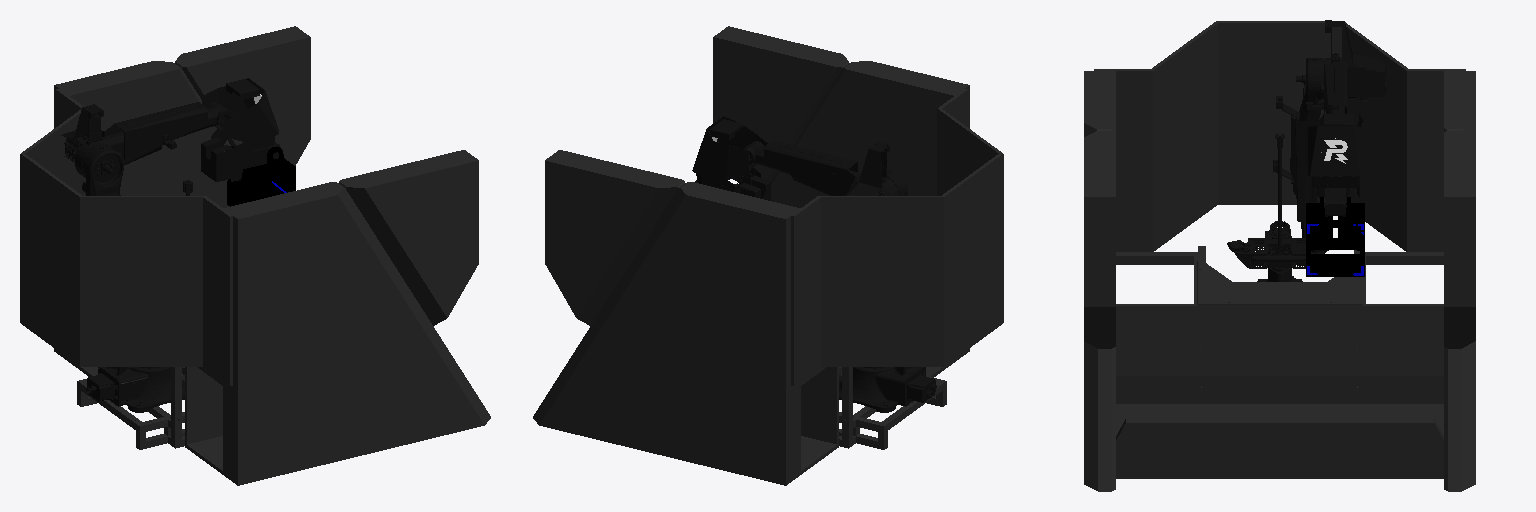
URDF robot description (Exchange_Station):
<?xml version="1.0" encoding="utf-8"?>
<!-- This URDF was automatically created by SolidWorks to URDF Exporter! Originally created by [author] ([email redacted]) 
     Commit Version: 1.6.0-4-g7f85cfe  Build Version: 1.6.7995.38578
     For more information, please see http://wiki.ros.org/sw_urdf_exporter -->
<robot
  name="Exchange_Station">
  <link
    name="base_link">
    <inertial>
      <origin
        xyz="-0.17399 -0.11056 0.083009"
        rpy="0 0 0" />
      <mass
        value="9.4012E-06" />
      <inertia
        ixx="1.0973E-11"
        ixy="-2.7657E-14"
        ixz="-1.4192E-12"
        iyy="1.0955E-09"
        iyz="5.6961E-14"
        izz="1.0845E-09" />
    </inertial>
    <visual>
      <origin
        xyz="0 0 0"
        rpy="0 0 0" />
      <geometry>
        <mesh
          filename="package://Exchange_Station/meshes/base_link.STL" />
      </geometry>
      <material
        name="black">
        <color
          rgba="0.1 0.1 0.1 1" />
      </material>
    </visual>
    <collision>
      <origin
        xyz="0 0 0"
        rpy="0 0 0" />
      <geometry>
        <mesh
          filename="package://Exchange_Station/meshes/base_link.STL" />
      </geometry>
    </collision>
  </link>
  <link
    name="L1">
    <inertial>
      <origin
        xyz="0.092915 0.12038 0.36763"
        rpy="0 0 0" />
      <mass
        value="0.5963" />
      <inertia
        ixx="0.0060483"
        ixy="0.0010503"
        ixz="0.0018288"
        iyy="0.011589"
        iyz="0.00047736"
        izz="0.011888" />
    </inertial>
    <visual>
      <origin
        xyz="0 0 0"
        rpy="0 0 0" />
      <geometry>
        <mesh
          filename="package://Exchange_Station/meshes/L1.STL" />
      </geometry>
      <material
        name="black">
        <color
          rgba="0.1 0.1 0.1 1" />
      </material>
    </visual>
    <collision>
      <origin
        xyz="0 0 0"
        rpy="0 0 0" />
      <geometry>
        <mesh
          filename="package://Exchange_Station/meshes/L1.STL" />
      </geometry>
    </collision>
  </link>
  <joint
    name="J1"
    type="revolute">
    <origin
      xyz="0 0 0.2020000000001"
      rpy="0 0 3.14" />
     <limit lower="-0.5" upper="0.5" effort="1000" velocity="100.0"/>
    <parent
      link="base_link" />
    <child
      link="L1" />
    <axis
      xyz="0 0 -1" />
  </joint>
  <link
    name="L2">
    <inertial>
      <origin
        xyz="0.3678 0.053005 -0.022493"
        rpy="0 0 0" />
      <mass
        value="0.37826" />
      <inertia
        ixx="0.0020262"
        ixy="0.00060414"
        ixz="-3.1207E-05"
        iyy="0.0061416"
        iyz="-1.0729E-05"
        izz="0.0061231" />
    </inertial>
    <visual>
      <origin
        xyz="0 0 0"
        rpy="0 0 0" />
      <geometry>
        <mesh
          filename="package://Exchange_Station/meshes/L2.STL" />
      </geometry>
      <material
        name="black">
        <color
          rgba="0.1 0.1 0.1 1" />
      </material>
    </visual>
    <collision>
      <origin
        xyz="0 0 0"
        rpy="0 0 0" />
      <geometry>
        <mesh
          filename="package://Exchange_Station/meshes/L2.STL" />
      </geometry>
    </collision>
  </link>
  <joint
    name="J2"
    type="revolute">
    <origin
      xyz="0.180000000000083 -0.13599999999999 0.300599999999966"
      rpy="1.5707963267949 -1.5707963267949 0" />
     <limit lower="-1.57" upper="0.2" effort="1000" velocity="100.0"/>
    <parent
      link="L1" />
    <child
      link="L2" />
    <axis
      xyz="0 0 -1" />
  </joint>
  <link
    name="L3">
    <inertial>
      <origin
        xyz="0.2861 0.11399 -0.13883"
        rpy="0 0 0" />
      <mass
        value="0.74928" />
      <inertia
        ixx="0.0046263"
        ixy="-0.0010526"
        ixz="-0.00023028"
        iyy="0.013619"
        iyz="-0.00090529"
        izz="0.014513" />
    </inertial>
    <visual>
      <origin
        xyz="0 0 0"
        rpy="0 0 0" />
      <geometry>
        <mesh
          filename="package://Exchange_Station/meshes/L3.STL" />
      </geometry>
      <material
        name="black">
        <color
          rgba="0.1 0.1 0.1 1" />
      </material>
    </visual>
    <collision>
      <origin
        xyz="0 0 0"
        rpy="0 0 0" />
      <geometry>
        <mesh
          filename="package://Exchange_Station/meshes/L3.STL" />
      </geometry>
    </collision>
  </link>
  <joint
    name="J3"
    type="continuous">
    <origin
      xyz="0.760000000000334 0 0.0229999999999997"
      rpy="3.14159265358979 0 1.5707963267949" />
    <parent
      link="L2" />
    <child
      link="L3" />
    <axis
      xyz="0 0 -1" />
  </joint>
  <link
    name="L4">
    <inertial>
      <origin
        xyz="0.1202 0.0056517 -0.1197"
        rpy="0 0 0" />
      <mass
        value="1.1036" />
      <inertia
        ixx="0.015284"
        ixy="-0.00011829"
        ixz="-0.000791"
        iyy="0.0093"
        iyz="0.00022878"
        izz="0.011409" />
    </inertial>
    <visual>
      <origin
        xyz="0 0 0"
        rpy="0 0 0" />
      <geometry>
        <mesh
          filename="package://Exchange_Station/meshes/L4.STL" />
      </geometry>
      <material
        name="black">
        <color
          rgba="0.1 0.1 0.1 1" />
      </material>
    </visual>
    <collision>
      <origin
        xyz="0 0 0"
        rpy="0 0 0" />
      <geometry>
        <mesh
          filename="package://Exchange_Station/meshes/L4.STL" />
      </geometry>
    </collision>
  </link>
  <joint
    name="J4"
    type="continuous">
    <origin
      xyz="0.75560833937857 0.0815845418051784 -0.112999999999991"
      rpy="1.5707963267949 0 -1.57079632679498" />
    <!-- <limit lower="-2" upper="2" effort="1000" velocity="100.0"/> -->
    <parent
      link="L3" />
    <child
      link="L4" />
    <axis
      xyz="0 1 0" />
  </joint>
  <link
    name="L_R">
    <inertial>
      <origin
        xyz="0.0042943 4.5581E-05 -0.25221"
        rpy="0 0 0" />
      <mass
        value="0.11162" />
      <inertia
        ixx="0.00022253"
        ixy="-3.4643E-08"
        ixz="5.2044E-05"
        iyy="0.00020864"
        iyz="9.2825E-09"
        izz="0.00040282" />
    </inertial>
    <visual>
      <origin
        xyz="0 0 0"
        rpy="0 0 0" />
      <geometry>
        <mesh
          filename="package://Exchange_Station/meshes/L_R.STL" />
      </geometry>
      <material
        name="white">
        <color
          rgba="1 1 1 1" />
      </material>
    </visual>
    <collision>
      <origin
        xyz="0 0 0"
        rpy="0 0 0" />
      <geometry>
        <mesh
          filename="package://Exchange_Station/meshes/L_R.STL" />
      </geometry>
    </collision>
  </link>
  <joint
    name="J_R"
    type="fixed">
    <origin
      xyz="0 0 0"
      rpy="0 0 0" />
    <parent
      link="L4" />
    <child
      link="L_R" />
    <axis
      xyz="0 0 0" />
  </joint>
  <link
    name="L5">
    <inertial>
      <origin
        xyz="0.10338 0.0024643 -0.010197"
        rpy="0 0 0" />
      <mass
        value="0.73428" />
      <inertia
        ixx="0.0010042"
        ixy="4.4117E-05"
        ixz="-6.5212E-06"
        iyy="0.0027858"
        iyz="1.5453E-08"
        izz="0.0031931" />
    </inertial>
    <visual>
      <origin
        xyz="0 0 0"
        rpy="0 0 0" />
      <geometry>
        <mesh
          filename="package://Exchange_Station/meshes/L5.STL" />
      </geometry>
      <material
        name="black">
        <color
          rgba="0.1 0.1 0.1 1" />
      </material>
    </visual>
    <collision>
      <origin
        xyz="0 0 0"
        rpy="0 0 0" />
      <geometry>
        <mesh
          filename="package://Exchange_Station/meshes/L5.STL" />
      </geometry>
    </collision>
  </link>
  <joint
    name="J5"
    type="continuous">
    <origin
      xyz="0.274200000000296 0 -0.0855000000000423"
      rpy="0 1.57079620573729 1.57079569431565" />
    <!-- <limit lower="-1" upper="1" effort="1000" velocity="100.0"/> -->
    <parent
      link="L4" />
    <child
      link="L5" />
    <axis
      xyz="1 0 0" />
  </joint>
  <link
    name="L6">
    <inertial>
      <origin
        xyz="0.19365 -0.050275 -0.011889"
        rpy="0 0 0" />
      <mass
        value="1.54" />
      <inertia
        ixx="0.010155"
        ixy="0.00028938"
        ixz="-9.6121E-06"
        iyy="0.011197"
        iyz="8.4277E-07"
        izz="0.011226" />
    </inertial>
    <visual>
      <origin
        xyz="0 0 0"
        rpy="0 0 0" />
      <geometry>
        <mesh
          filename="package://Exchange_Station/meshes/L6.STL" />
      </geometry>
      <material
        name="black">
        <color
          rgba="0 0 0 1" />
      </material>
    </visual>
    <collision>
      <origin
        xyz="0 0 0"
        rpy="0 0 0" />
      <geometry>
        <mesh
          filename="package://Exchange_Station/meshes/L6.STL" />
      </geometry>
    </collision>
  </link>
  <joint
    name="J6"
    type="revolute">
    <origin
      xyz="0.209499999999998 0 0"
      rpy="0 0 -1.5707963267949" />
    <limit lower="-1.57" upper="0.5" effort="1000" velocity="100.0"/>
    <parent
      link="L5" />
    <child
      link="L6" />
    <axis
      xyz="0 0 -1" />
  </joint>
  <link
    name="L_lighit">
    <inertial>
      <origin
        xyz="0.19945 0.021135 0.0019544"
        rpy="0 0 0" />
      <mass
        value="0.082498" />
      <inertia
        ixx="4.5664E-05"
        ixy="1.9456E-09"
        ixz="-2.0864E-07"
        iyy="0.00016304"
        iyz="1.9456E-09"
        izz="0.00018554" />
    </inertial>
    <visual>
      <origin
        xyz="0 0 0"
        rpy="0 0 0" />
      <geometry>
        <mesh
          filename="package://Exchange_Station/meshes/L_lighit.STL" />
      </geometry>
      <material
        name="blue">
        <color
          rgba="0 0 1 1" />
      </material>
    </visual>
    <collision>
      <origin
        xyz="0 0 0"
        rpy="0 0 0" />
      <geometry>
        <mesh
          filename="package://Exchange_Station/meshes/L_lighit.STL" />
      </geometry>
    </collision>
  </link>
  <joint
    name="J_light"
    type="fixed">
    <origin
      xyz="0 0 0"
      rpy="0 0 0" />
    <parent
      link="L6" />
    <child
      link="L_lighit" />
    <axis
      xyz="0 0 0" />
  </joint>
  <link
    name="L_RFID">
    <inertial>
      <origin
        xyz="0.31939 -0.019757 -9.413E-07"
        rpy="0 0 0" />
      <mass
        value="0.021955" />
      <inertia
        ixx="3.3439E-05"
        ixy="-3.5924E-10"
        ixz="-3.6333E-11"
        iyy="1.914E-05"
        iyz="1.544E-09"
        izz="1.4478E-05" />
    </inertial>
    <visual>
      <origin
        xyz="0 0 0"
        rpy="0 0 0" />
      <geometry>
        <mesh
          filename="package://Exchange_Station/meshes/L_RFID.STL" />
      </geometry>
      <material
        name="black">
        <color
          rgba="0 0 0 1" />
      </material>
    </visual>
    <collision>
      <origin
        xyz="0 0 0"
        rpy="0 0 0" />
      <geometry>
        <mesh
          filename="package://Exchange_Station/meshes/L_RFID.STL" />
      </geometry>
    </collision>
  </link>
  <joint
    name="J_RFID"
    type="fixed">
    <origin
      xyz="0 0 0"
      rpy="0 0 0" />
    <parent
      link="L6" />
    <child
      link="L_RFID" />
    <axis
      xyz="0 0 0" />
  </joint>
  <link
    name="L_base">
    <inertial>
      <origin
        xyz="0.63097 -5.1948E-05 0.48823"
        rpy="0 0 0" />
      <mass
        value="900.72" />
      <inertia
        ixx="209.32"
        ixy="0.00027467"
        ixz="-14.024"
        iyy="289.49"
        iyz="-0.00031051"
        izz="166.42" />
    </inertial>
    <visual>
      <origin
        xyz="0 0 0"
        rpy="0 0 0" />
      <geometry>
        <mesh
          filename="package://Exchange_Station/meshes/L_base.STL" />
      </geometry>
      <material
        name="">
        <color
          rgba="0.2 0.2 0.2 1" />
      </material>
    </visual>
    <collision>
      <origin
        xyz="0 0 0"
        rpy="0 0 0" />
      <geometry>
        <mesh
          filename="package://Exchange_Station/meshes/L_base.STL" />
      </geometry>
    </collision>
  </link>
  <joint
    name="J_base"
    type="fixed">
    <origin
      xyz="0 0 0"
      rpy="0 0 0" />
    <parent
      link="base_link" />
    <child
      link="L_base" />
    <axis
      xyz="0 0 0" />
  </joint>
</robot>

--- Render facts (derived) ---
Views: 3 orthographic renders of the robot side by side, from view 1: azimuth 30°, elevation 25°; view 2: azimuth 150°, elevation 25°; view 3: azimuth 270°, elevation 25°.
Robot: Exchange_Station — 11 links, 10 joints (3 revolute, 3 continuous, 4 fixed); root link base_link; default pose: all joints at 0.
Links seen in each view (by area): view 1: L_base, L3, L4, base_link, L6, L2; view 2: L_base, L3, L4, base_link; view 3: L_base, L6, L4, L2, L3, L1, L5.
Link boxes in pixels (x1=…): L_base: x1=20, y1=26, x2=490, y2=485; L3: x1=61, y1=102, x2=232, y2=177; L4: x1=201, y1=78, x2=278, y2=181; base_link: x1=86, y1=367, x2=184, y2=412; L6: x1=227, y1=147, x2=295, y2=206; L2: x1=82, y1=145, x2=123, y2=195; L_base: x1=533, y1=26, x2=1003, y2=485; L3: x1=743, y1=140, x2=899, y2=195; L4: x1=692, y1=116, x2=770, y2=200; base_link: x1=839, y1=367, x2=936, y2=412; L_base: x1=1084, y1=21, x2=1475, y2=491; L6: x1=1306, y1=197, x2=1364, y2=276; L4: x1=1308, y1=114, x2=1362, y2=197; L2: x1=1273, y1=58, x2=1323, y2=237; L3: x1=1306, y1=20, x2=1385, y2=113; L1: x1=1227, y1=134, x2=1328, y2=269; L5: x1=1321, y1=176, x2=1349, y2=216.
Bounding box of the posed robot: 2.14 × 1.91 × 1.71 m (x, y, z).
11 mesh visuals loaded from 11 distinct referenced files (11 binary STL).
